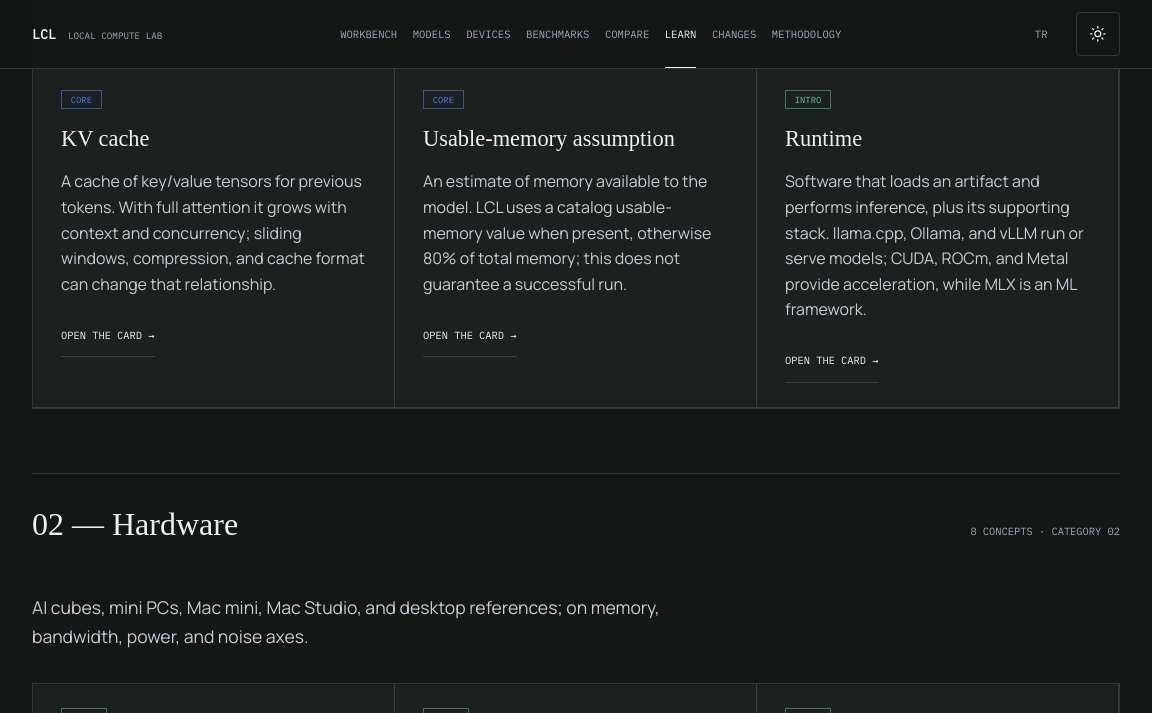
Test case: LCL application routes › opens the requested concept in the learning deck
(page scrolled)
What coordinates should you click on to do the following:
click the 3rd button "Open the card →"
I would click on:
 (832, 361)
Its box is [785,339,878,383].
(page scrolled)
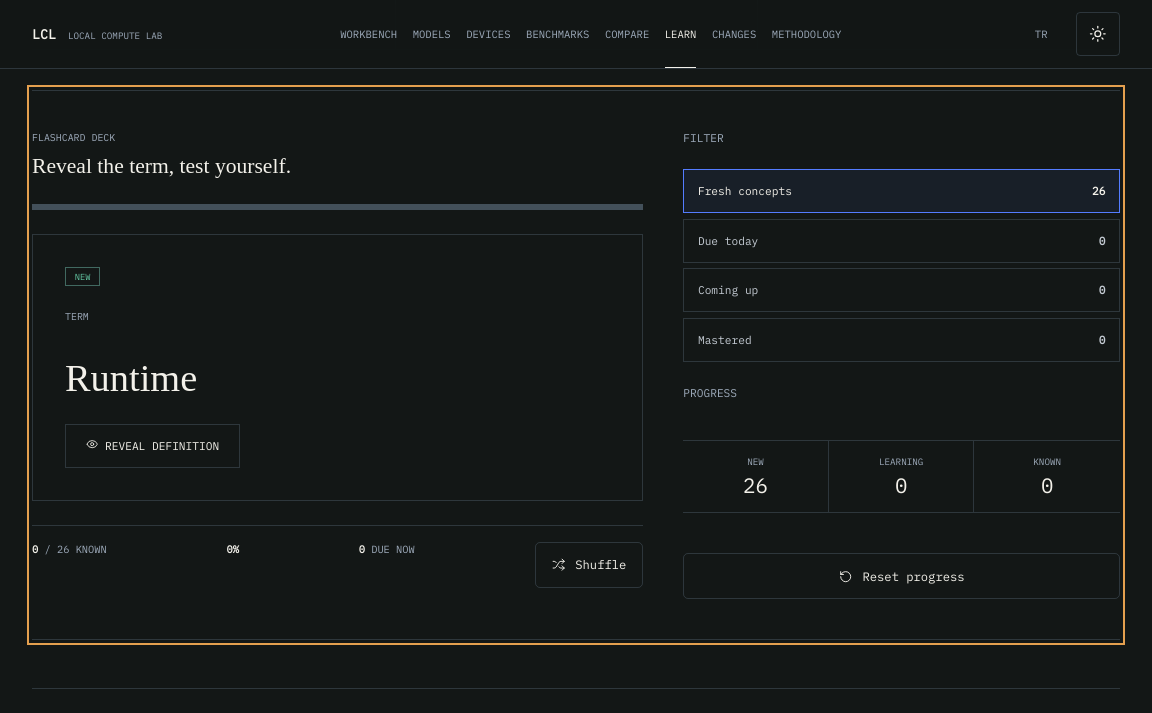
Expected: the heading "Runtime" is shown, [65,357,197,399]
